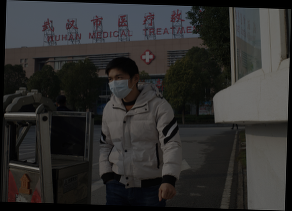with_mask: (107, 73, 133, 98)
